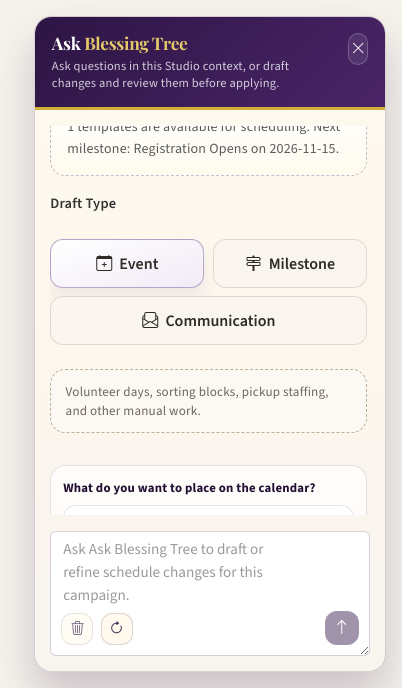
Test case: CampaignStudioAiRail › uses a compact draft-type selector with a shared description area
This screenshot has width=402, height=688.
(page scrolled)
Check: the text "Volunteer days, sorting blocks, pickup staffing" is shown, box [66,383,329,419]
What coordinates should you click on to do the following:
click the button "Communication"
I would click on:
 (209, 321)
Its box is [50,296,367,345].
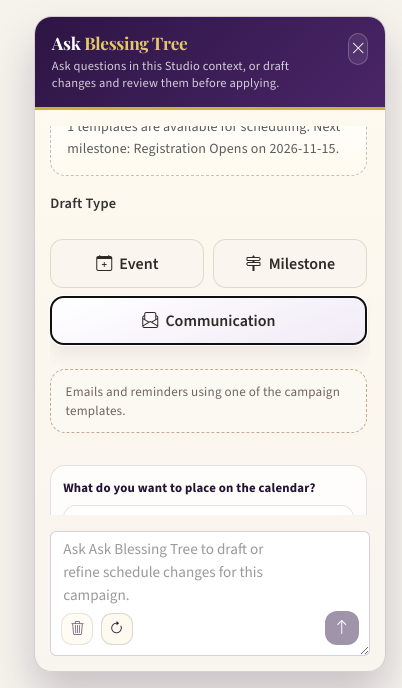
Check: the text "Emails and reminders using one of the campaign templates." is shown, box [50,369,367,433]
